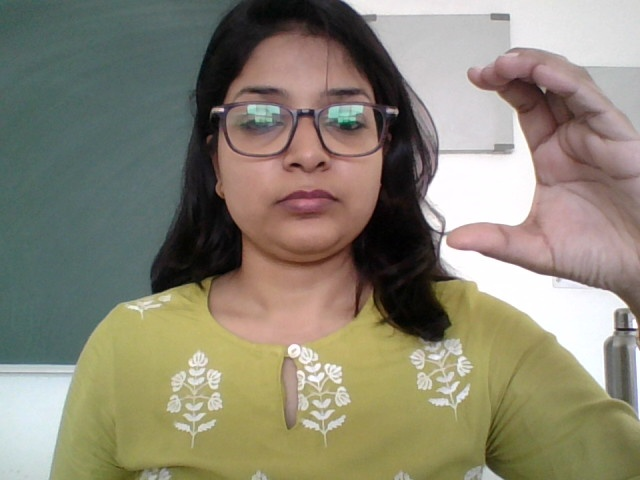C: (445, 48, 640, 282)
